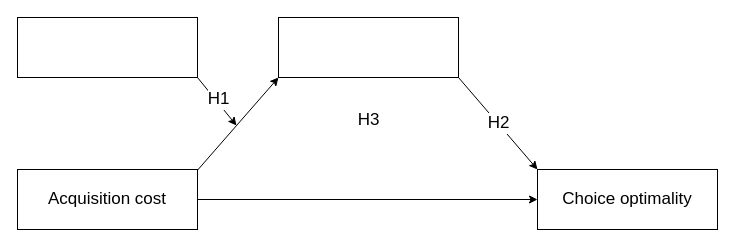
This 735x247 diagram has some shape labels left out. Each missing label, with the centre of its shape:
Diagnostic acquisition: pixel 368 47
Prompt specificity: pixel 107 47
